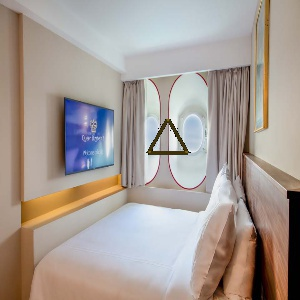triangle: (143, 116, 195, 158)
